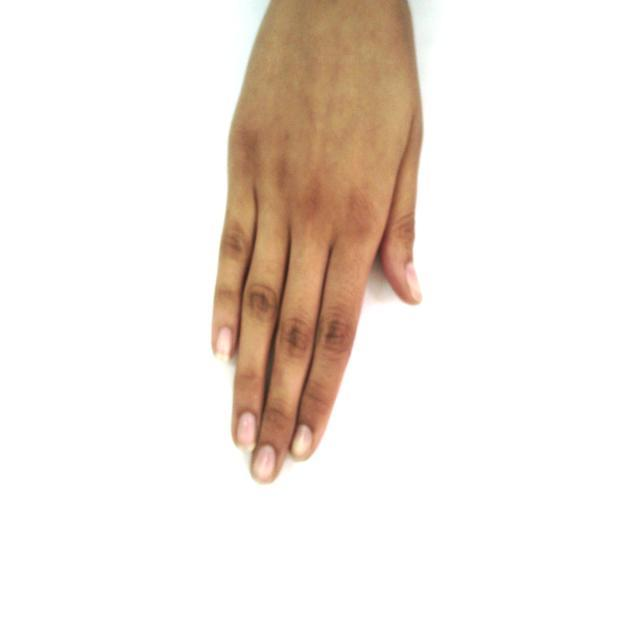Fingernail: (253, 446, 276, 482), (238, 413, 256, 450), (292, 426, 312, 457), (406, 262, 422, 299), (216, 327, 233, 359)
